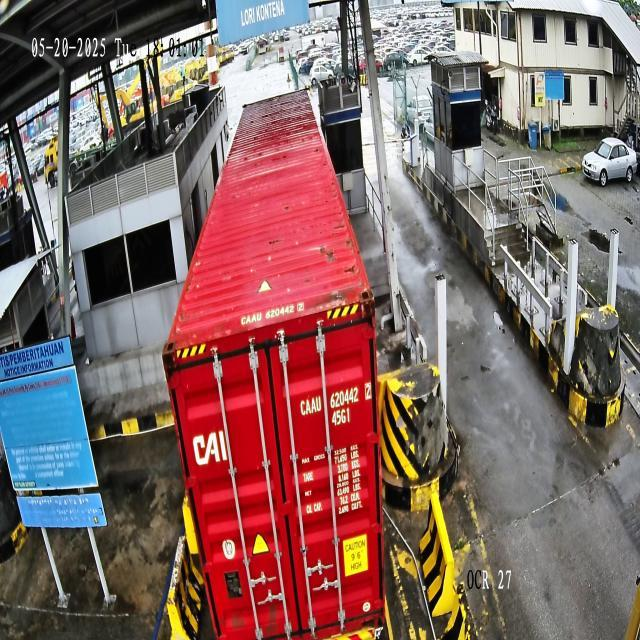ISO: (332, 406, 352, 426)
container_number: (299, 382, 372, 417)
